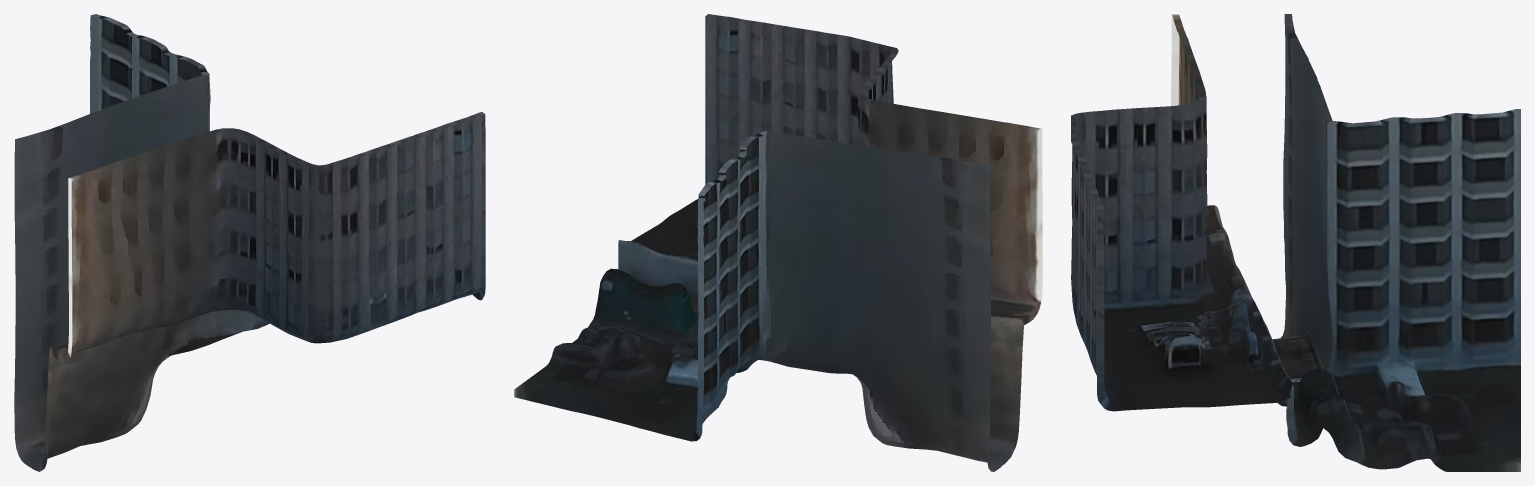
The model's file is z20-167748-405242-h0-yup-uvflip-v3-world.glb.
3 views of the same model, side by side, from view 1: azimuth 30°, elevation 25°; view 2: azimuth 150°, elevation 25°; view 3: azimuth 270°, elevation 25° (orthographic). The views are drawn at different scales.
Bounding box in the file's own units: 30.16 × 24.16 × 29.32.
Materials: 1 (1 with a texture image).
